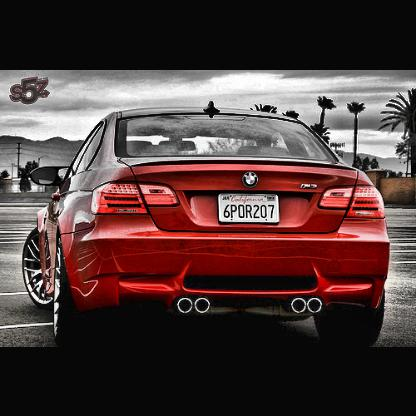BMW M3 Coupe 2012: (24, 103, 394, 340)
